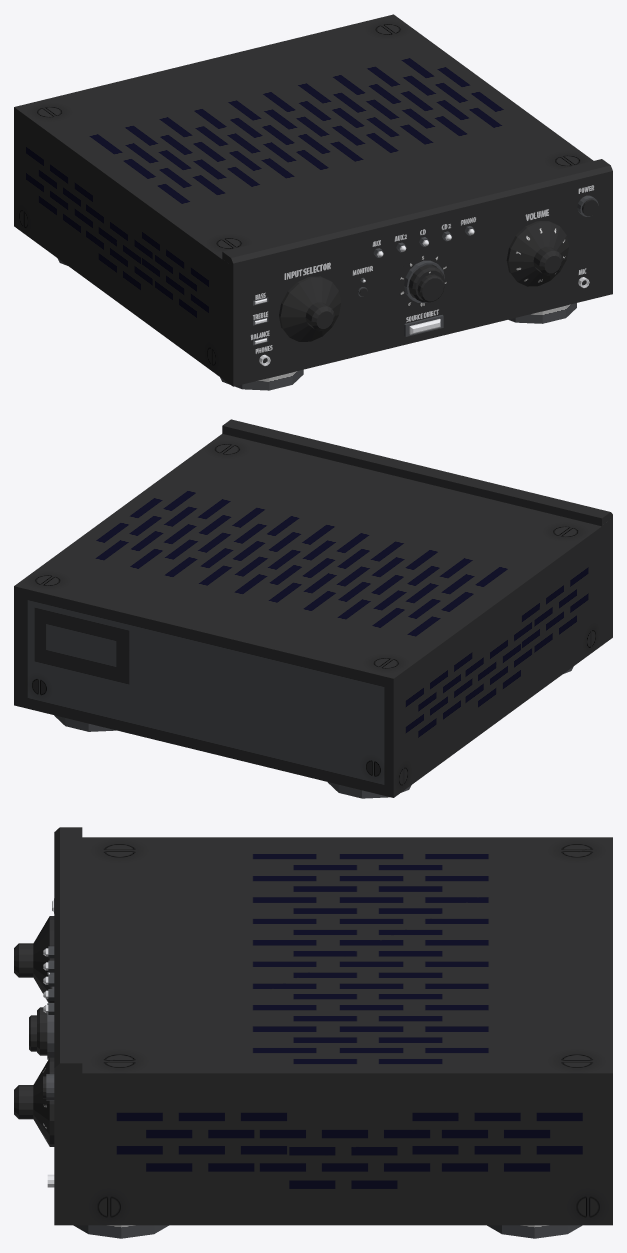
Rendered from 03e36168-5bbf-4909-8f1c-05e0ba2d1f21.glb.
3 views of the same model, one above another, from view 1: azimuth 30°, elevation 25°; view 2: azimuth 150°, elevation 25°; view 3: azimuth 270°, elevation 25° (orthographic). The views are drawn at different scales.
Parts seen in each view (by area): view 1: Amp, b, c, a; view 2: Amp; view 3: Amp, b, c, a.
Boxes of the visible parts, box(x1,y1,x2,y2) form: Amp: box(14, 14, 612, 390); b: box(506, 221, 568, 286); c: box(279, 276, 341, 341); a: box(408, 265, 444, 302); Amp: box(14, 419, 612, 798); Amp: box(43, 827, 612, 1238); b: box(14, 1057, 54, 1146); c: box(14, 916, 54, 1002); a: box(29, 1007, 47, 1055).
Bounding box in the file's own units: 500 × 182 × 536.
1 material, 1 textured.
